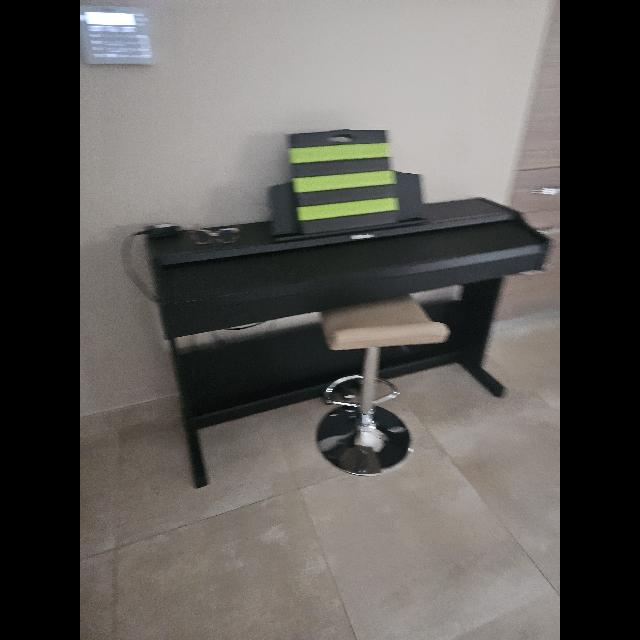glasses: (189, 227, 239, 245)
